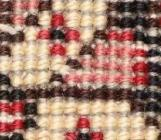Knot: (7, 74, 20, 87), (75, 104, 90, 115), (50, 30, 65, 41), (34, 105, 49, 115), (10, 32, 23, 42), (36, 28, 49, 38), (60, 105, 73, 115), (120, 18, 132, 28), (92, 90, 104, 100), (103, 81, 116, 90), (118, 3, 132, 11), (149, 63, 160, 73), (144, 101, 155, 111), (113, 90, 124, 100), (81, 55, 91, 66), (24, 94, 35, 104), (64, 30, 76, 39), (24, 104, 34, 114), (145, 17, 155, 27), (118, 80, 128, 90), (144, 115, 154, 125), (108, 18, 118, 28), (146, 28, 157, 37), (133, 2, 144, 11), (77, 118, 89, 126), (25, 119, 35, 128), (37, 88, 47, 97), (11, 14, 20, 24), (94, 45, 103, 55), (81, 45, 92, 53), (132, 104, 143, 112), (121, 30, 130, 39), (107, 72, 116, 81), (91, 130, 100, 139), (146, 84, 155, 93), (25, 16, 35, 24), (134, 62, 144, 70), (93, 58, 103, 66), (108, 59, 116, 69), (11, 132, 22, 139), (149, 56, 160, 63), (93, 80, 102, 88), (135, 48, 144, 56), (135, 76, 144, 84), (135, 17, 144, 25), (66, 130, 74, 139), (75, 88, 83, 97), (11, 24, 20, 32), (51, 44, 59, 53), (11, 90, 18, 100), (75, 66, 82, 76), (67, 87, 75, 95), (135, 31, 143, 39), (82, 81, 89, 90), (135, 10, 144, 17), (27, 7, 36, 14), (121, 10, 130, 17), (60, 81, 67, 90), (146, 10, 155, 17), (51, 73, 60, 80), (78, 132, 87, 139), (116, 39, 123, 48), (82, 73, 90, 80), (93, 73, 101, 80), (135, 41, 143, 48), (6, 122, 13, 130), (6, 114, 13, 122), (52, 87, 59, 95), (108, 10, 116, 17), (66, 73, 74, 80), (109, 48, 116, 56), (127, 90, 135, 97), (135, 84, 144, 90), (154, 112, 160, 121), (83, 66, 90, 73), (109, 31, 116, 38), (75, 81, 82, 88), (123, 48, 129, 56), (47, 88, 52, 97), (22, 9, 27, 16), (157, 28, 160, 35)
